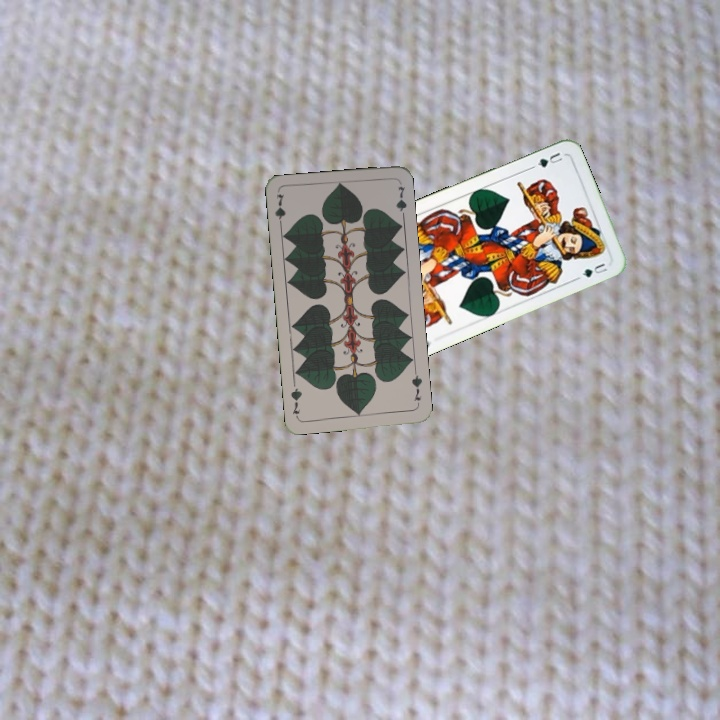G7: (271, 190, 288, 230), (408, 368, 425, 403)
GU: (528, 148, 565, 171)
